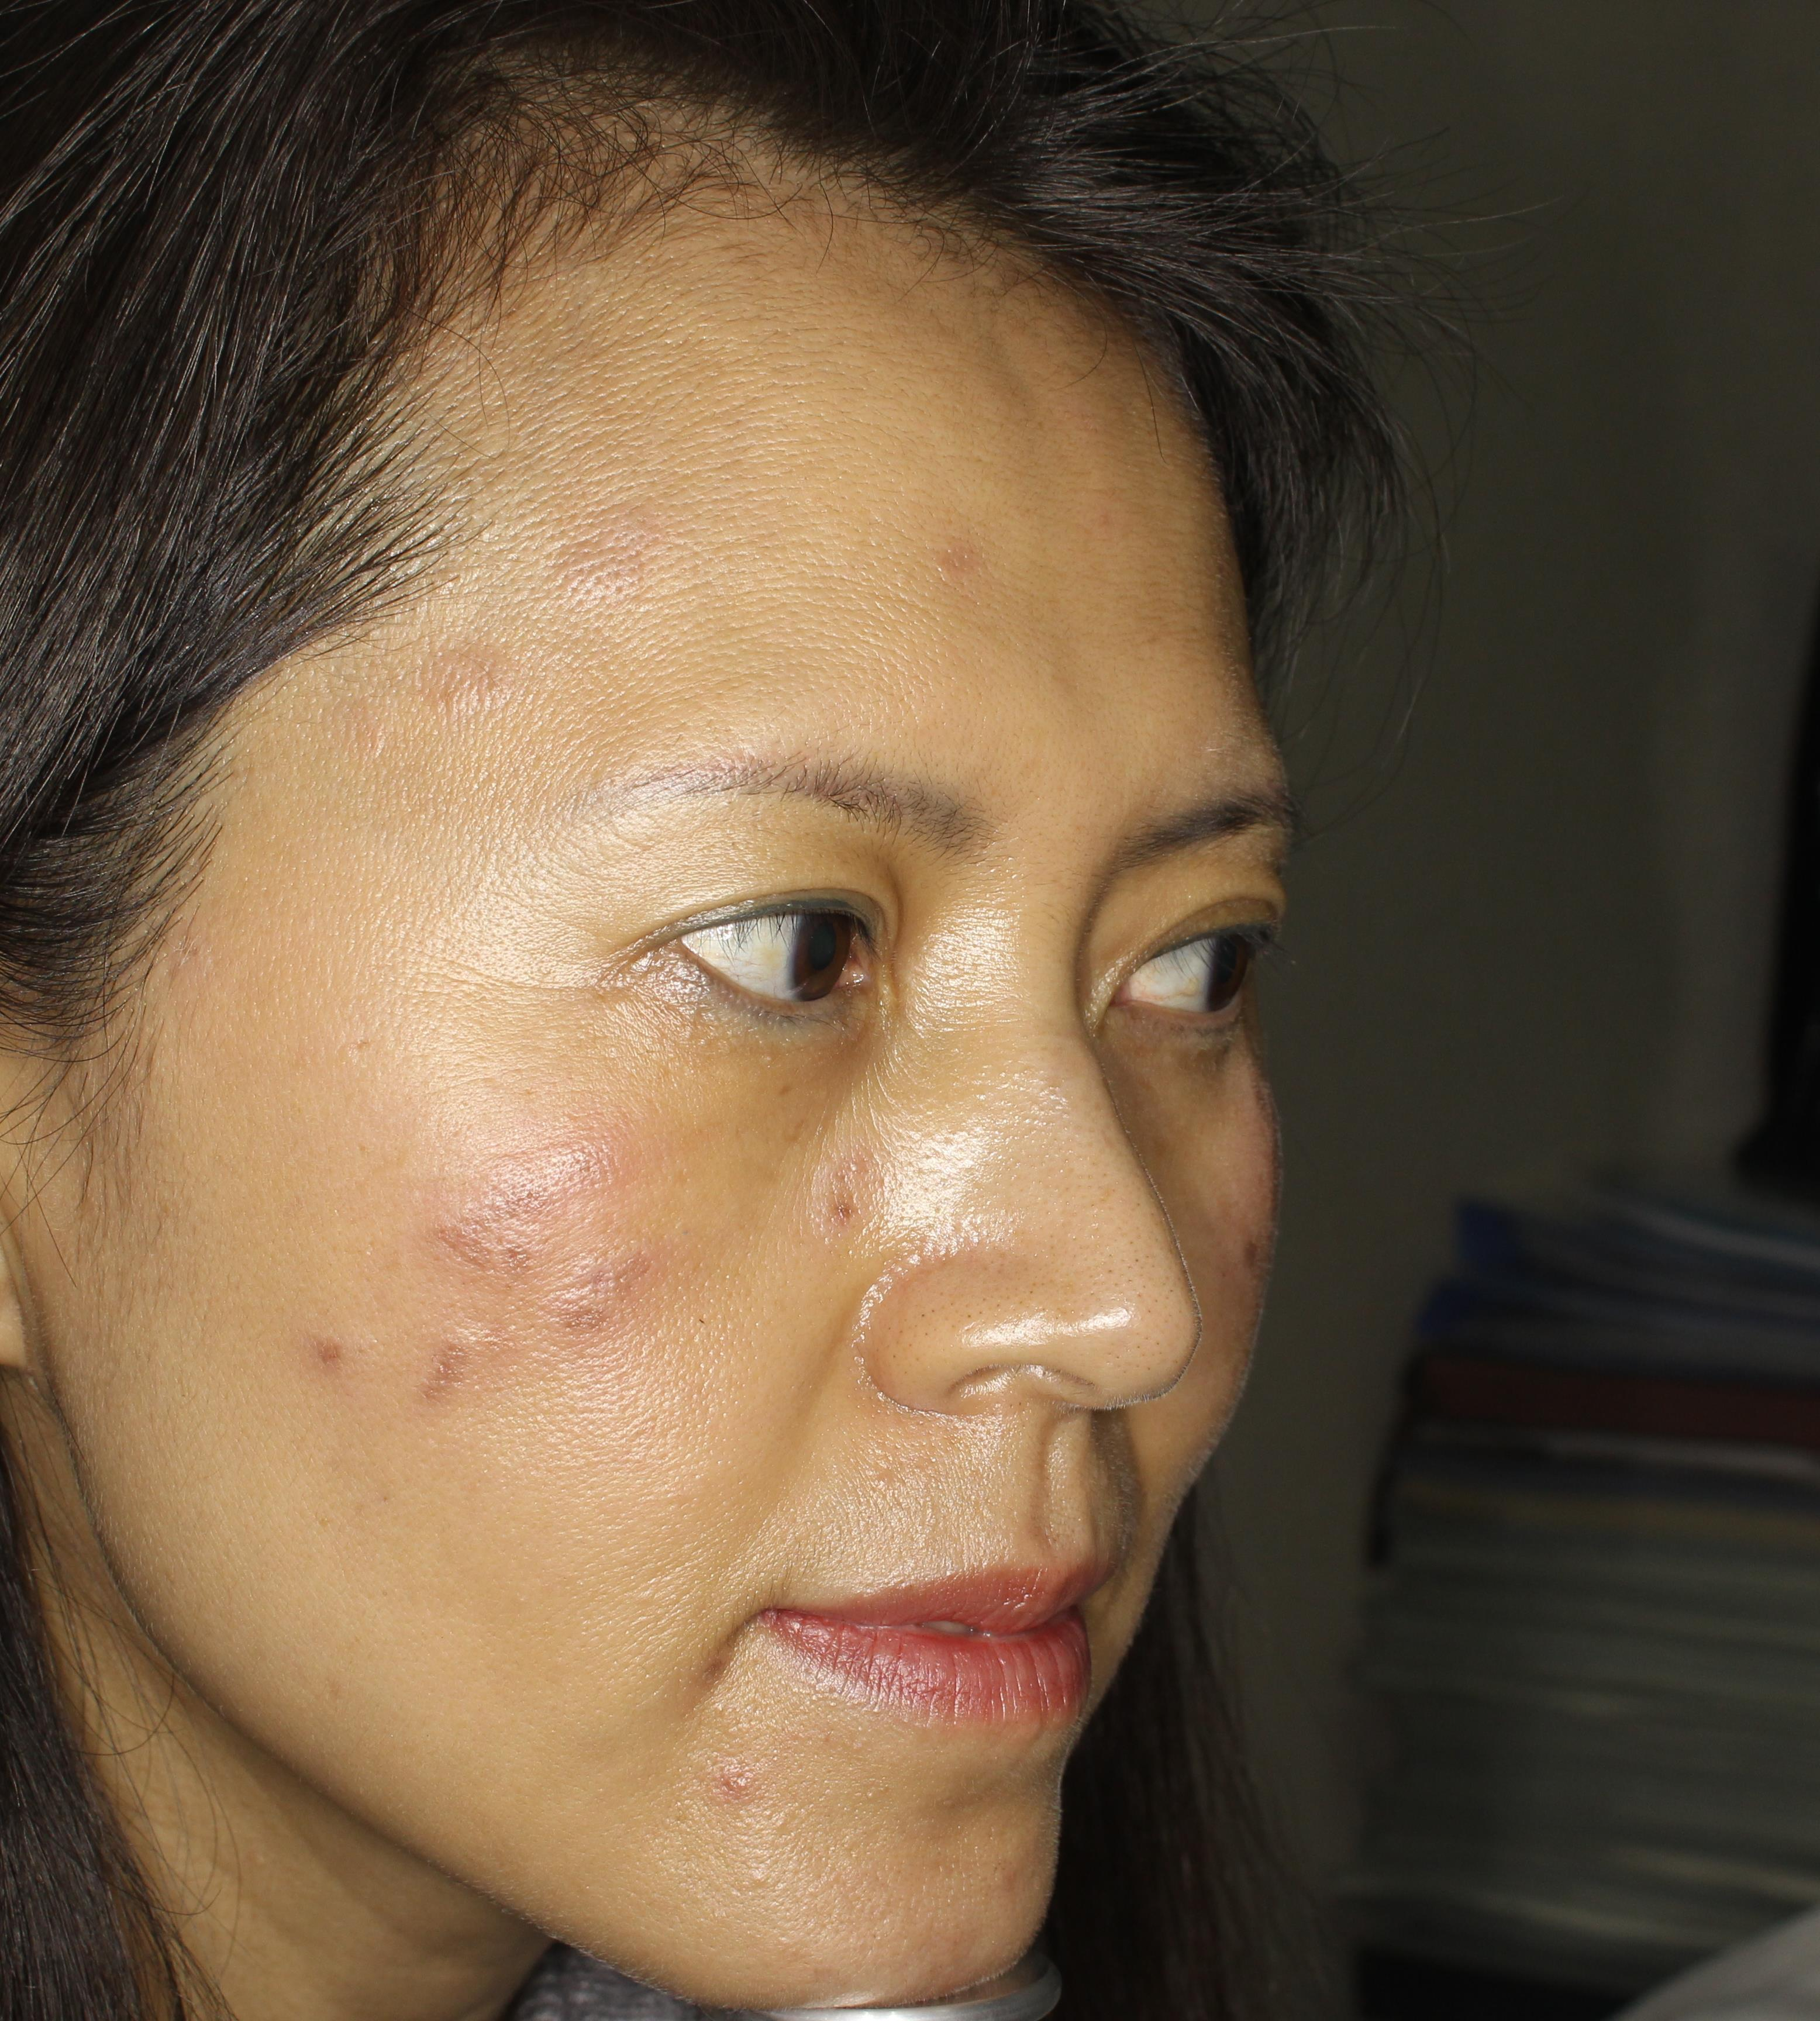fore: (690, 1742, 808, 1845), (531, 523, 624, 636), (1198, 1190, 1265, 1306), (288, 1306, 369, 1396), (552, 1236, 624, 1334), (386, 1326, 481, 1392), (485, 1213, 548, 1280), (430, 1190, 485, 1266)
